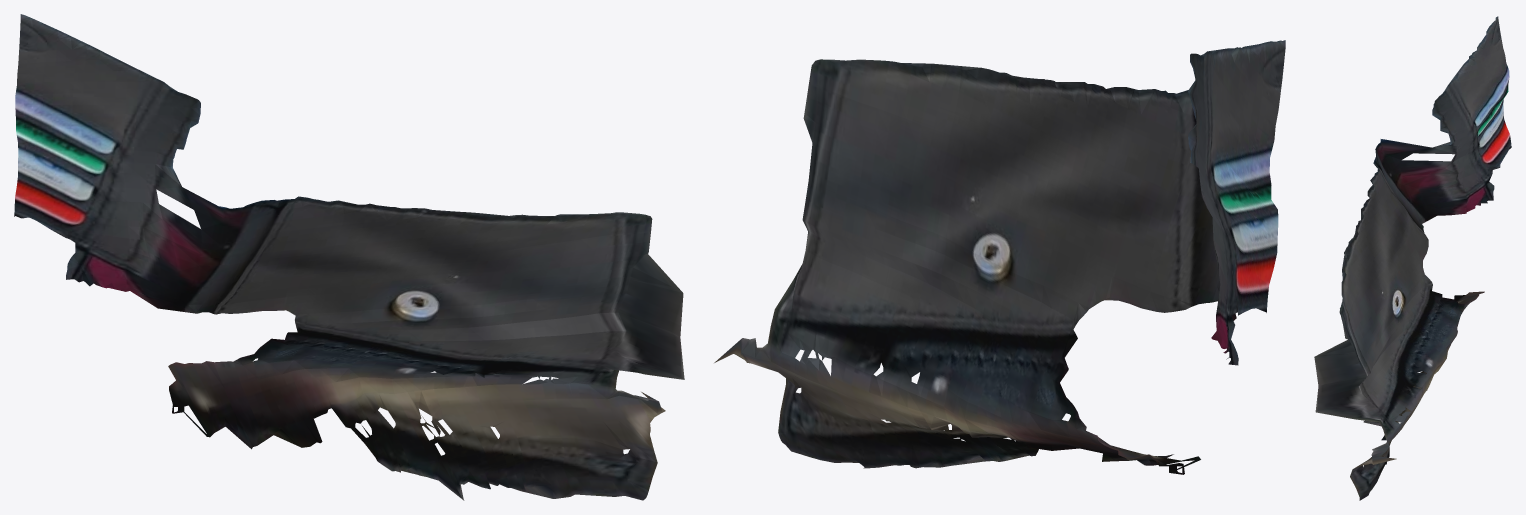
The model's file is observed-surface.glb.
3 views of the same model, side by side, from view 1: azimuth 30°, elevation 25°; view 2: azimuth 150°, elevation 25°; view 3: azimuth 270°, elevation 25° (orthographic). The views are drawn at different scales.
Parts seen in each view (by area): view 1: geometry_0; view 2: geometry_0; view 3: geometry_0.
Boxes of the visible parts, bbox=[...] form: geometry_0: bbox=[14, 14, 684, 500]; geometry_0: bbox=[714, 40, 1285, 474]; geometry_0: bbox=[1314, 16, 1511, 500].
Size of the model in its own units: 0.5366 by 0.4988 by 0.2694.
Materials: 1 (1 with a texture image).
